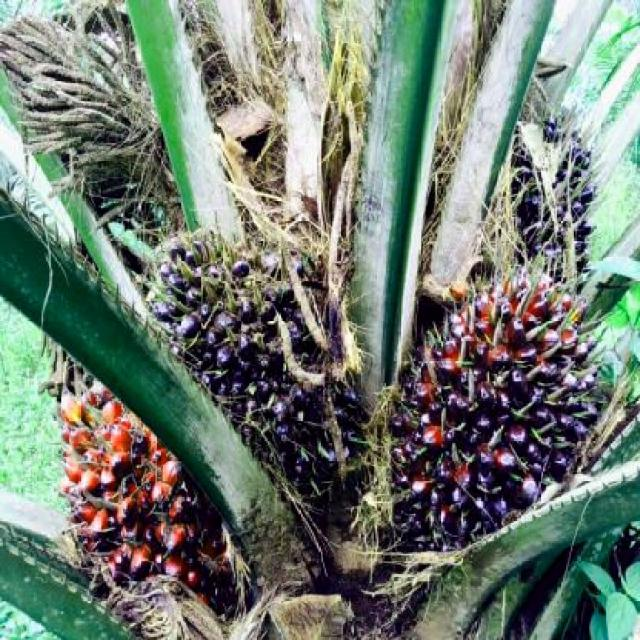palm-oil: (127, 223, 371, 498), (384, 263, 606, 529), (40, 376, 252, 604), (491, 96, 589, 282)
